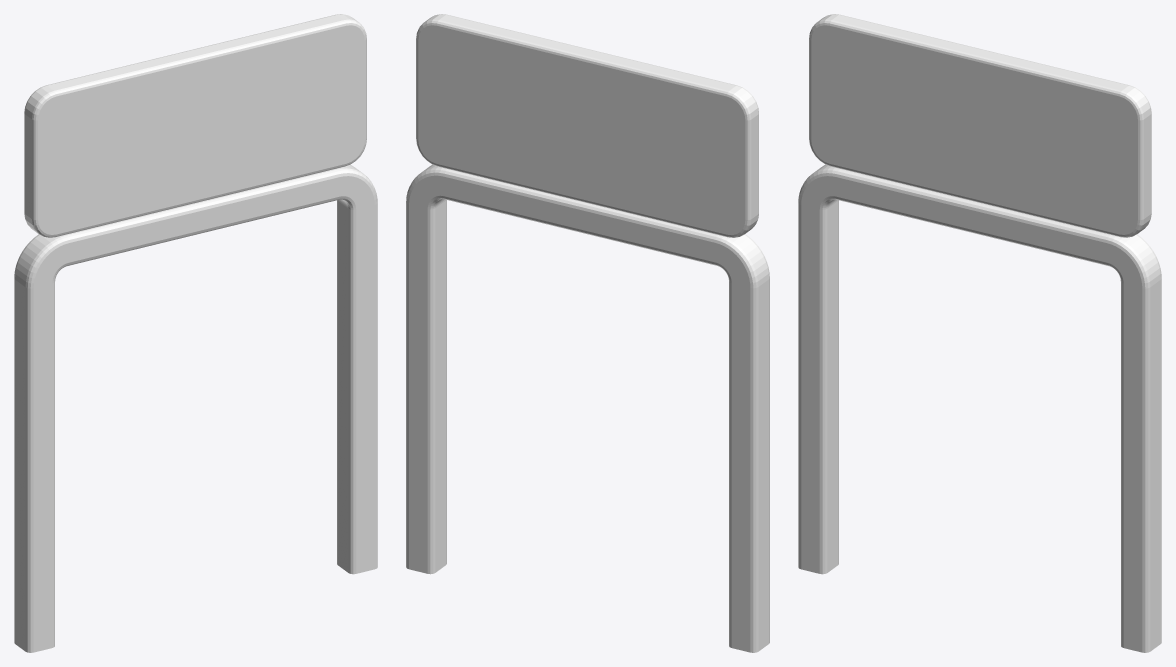
Rendered from cashierrun_newgates.fbx.
3 views of the same model, side by side, from view 1: azimuth 30°, elevation 25°; view 2: azimuth 150°, elevation 25°; view 3: azimuth 330°, elevation 25° (orthographic).
Parts seen in each view (by area): view 1: cashierrun_newtable, cashierrun_newgate; view 2: cashierrun_newtable, cashierrun_newgate; view 3: cashierrun_newtable, cashierrun_newgate.
Part boxes in pixels (x1,y1,x2,y2): cashierrun_newtable: [24, 14, 366, 237]; cashierrun_newgate: [14, 164, 377, 652]; cashierrun_newtable: [416, 14, 758, 237]; cashierrun_newgate: [406, 164, 769, 652]; cashierrun_newtable: [809, 14, 1151, 237]; cashierrun_newgate: [798, 164, 1161, 652].
Bounding box in the file's own units: 5.03 × 7.55 × 0.4099.
